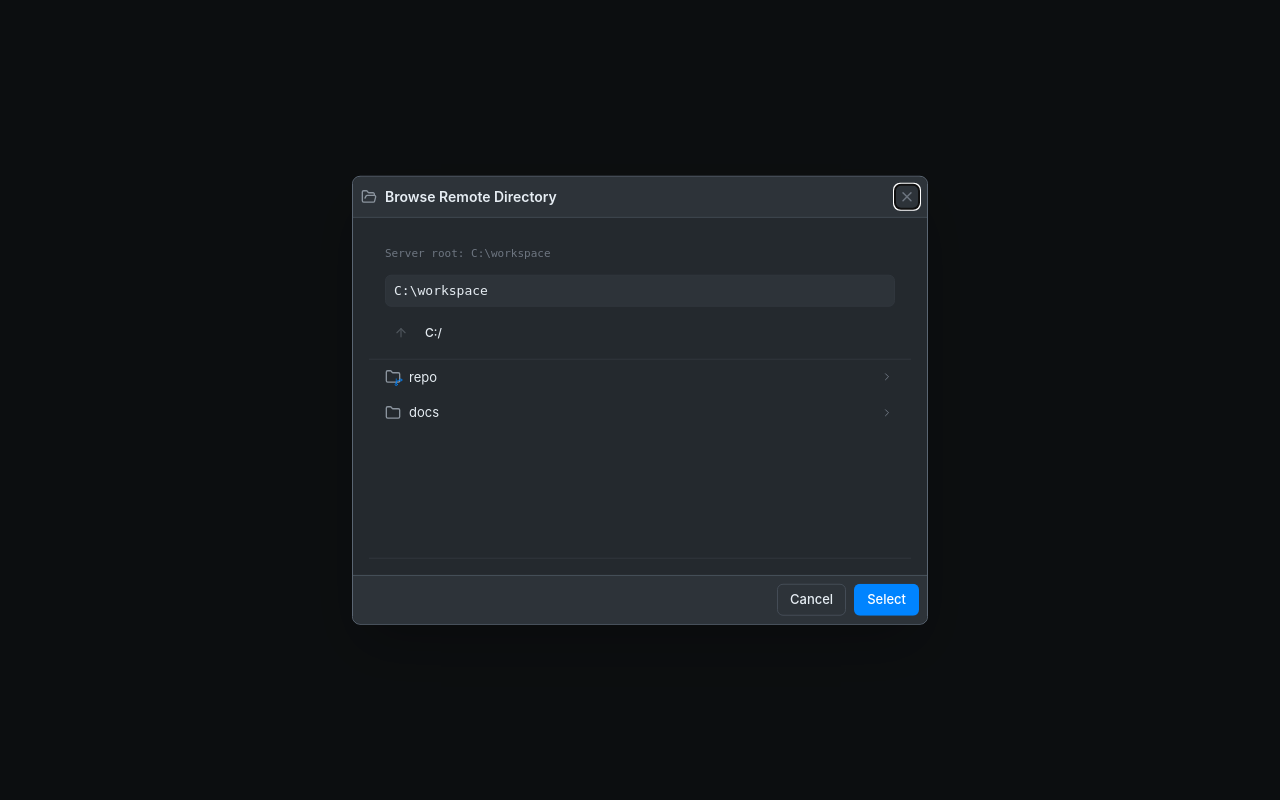
Scenario: RemoteFileBrowserDialog › navigates into a Windows directory on double-click
The width and height of the screenshot is (1280, 800).
Step 1. Double-click the button with test id "dir-entry-repo" → (393, 377), box [385,368,895,387]
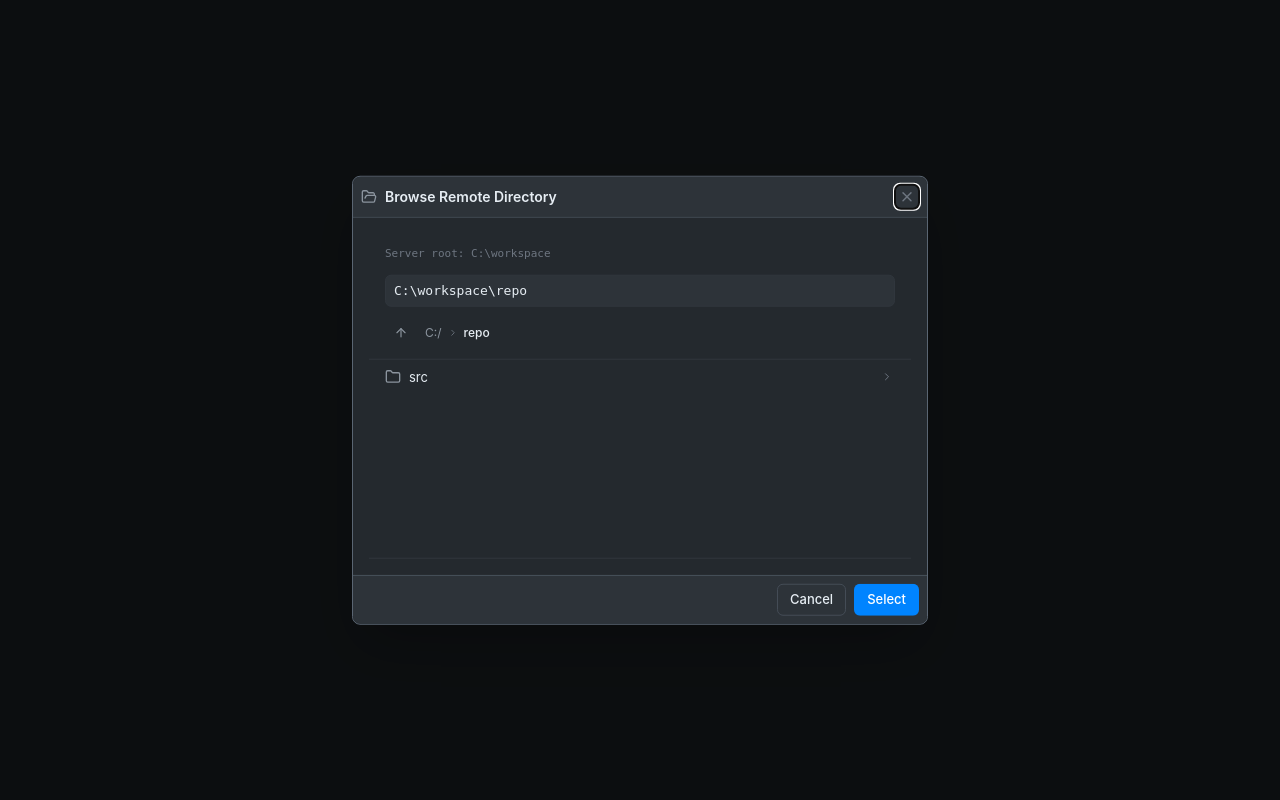
Now the text "src" is shown, box [409,367,428,387]
